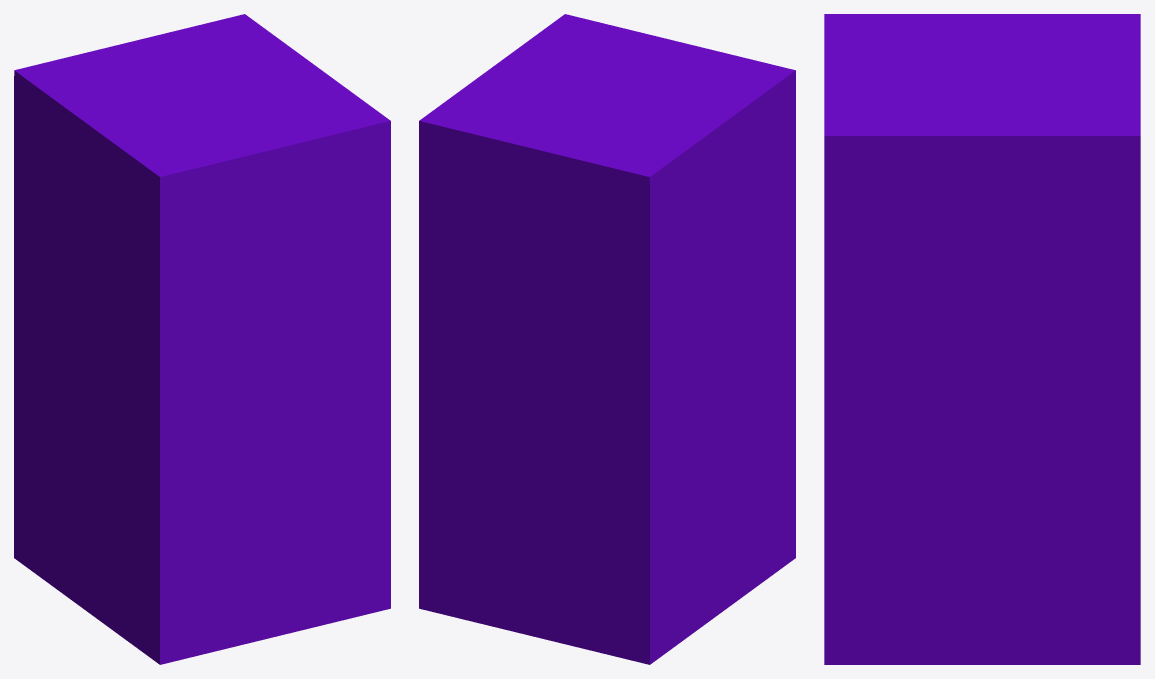
3 views of the same model, side by side, from view 1: azimuth 30°, elevation 25°; view 2: azimuth 150°, elevation 25°; view 3: azimuth 270°, elevation 25° (orthographic). The views are drawn at different scales.
Bounding box in the file's own units: 0.15 × 0.3029 × 0.1643.
